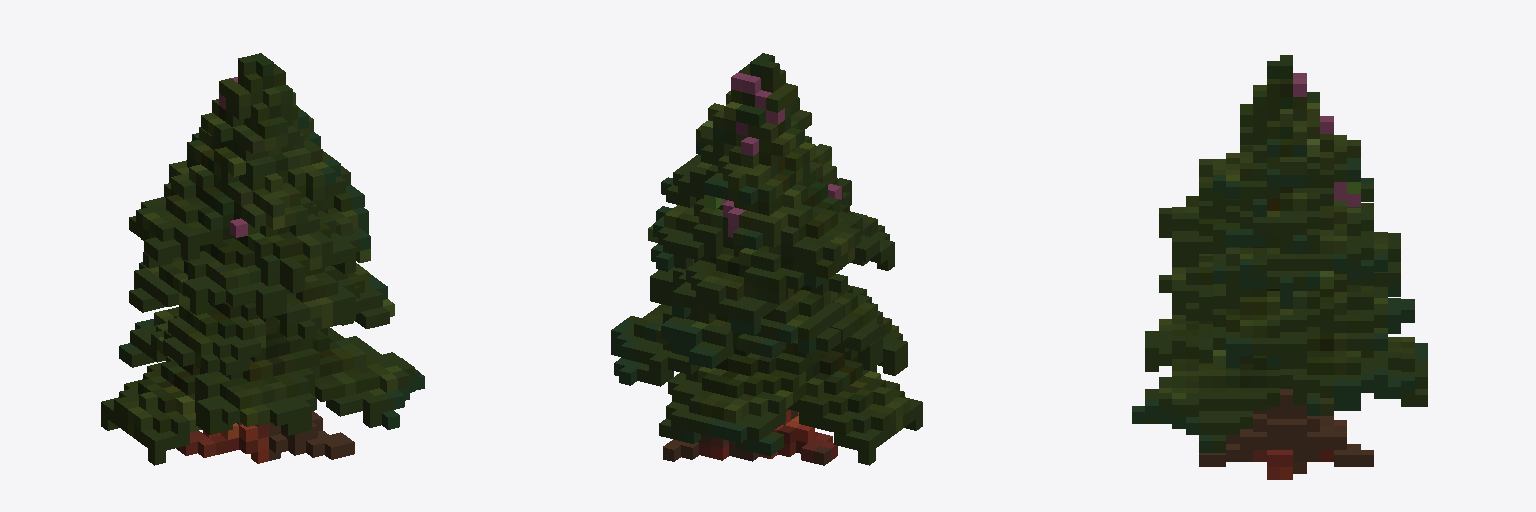
3 renders of one model, left to right at view 1: azimuth 30°, elevation 25°; view 2: azimuth 150°, elevation 25°; view 3: azimuth 270°, elevation 25°, orthographic.
Parts seen in each view (by area): view 1: object 1; view 2: object 1; view 3: object 1.
Part boxes in pixels (bbox=[...]): object 1: bbox=[101, 53, 424, 465]; object 1: bbox=[611, 53, 922, 465]; object 1: bbox=[1132, 55, 1427, 479].
Bounding box in the file's own units: 2.2 × 3.2 × 2.2.
1 materials, 1 textured.